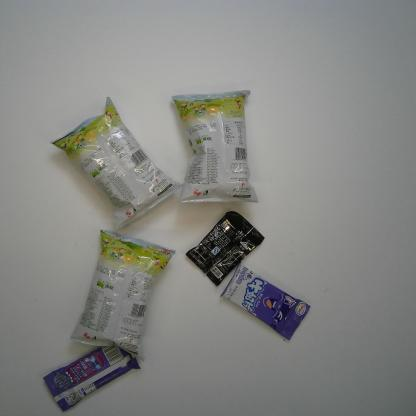Candy: (218, 260, 312, 342), (42, 344, 141, 413)
Instant Drink: (184, 210, 266, 288)
Puffed Food: (50, 96, 184, 231), (67, 229, 177, 362), (170, 88, 259, 205)
